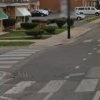crosswalk: (3, 78, 99, 94), (0, 47, 43, 69)
